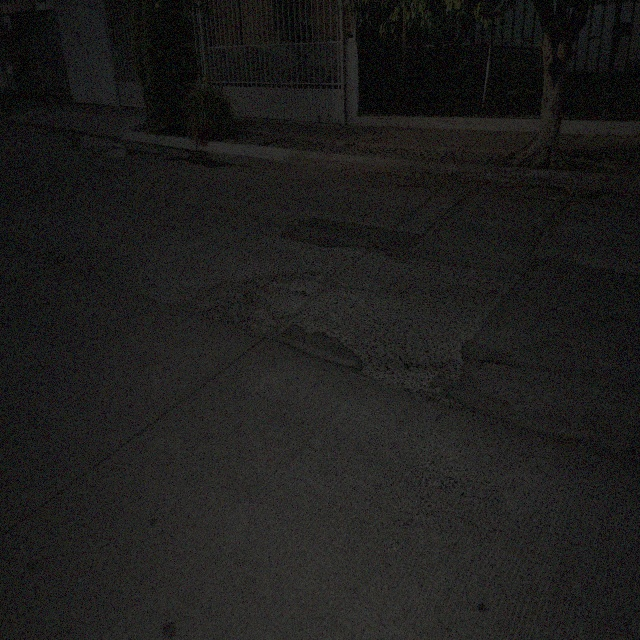pothole: (247, 272, 282, 312), (478, 355, 514, 377)
